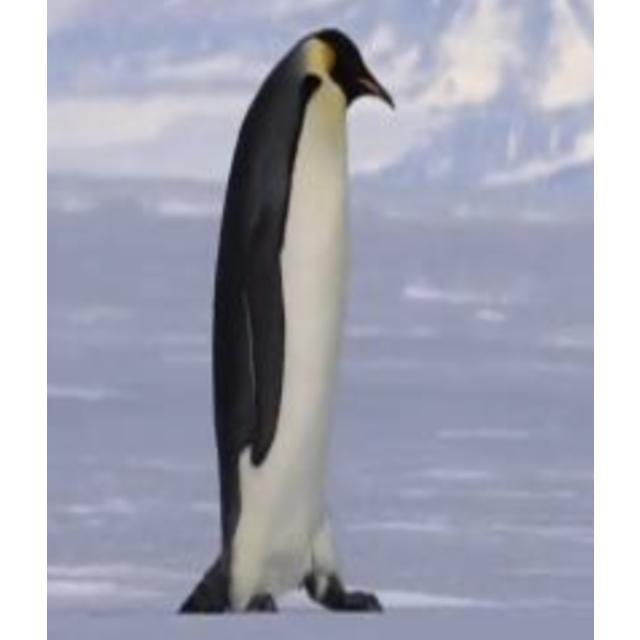penguin: (175, 29, 396, 614)
